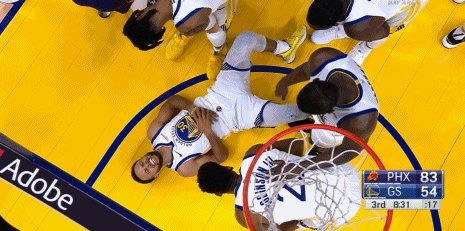falling: (123, 20, 301, 185)
